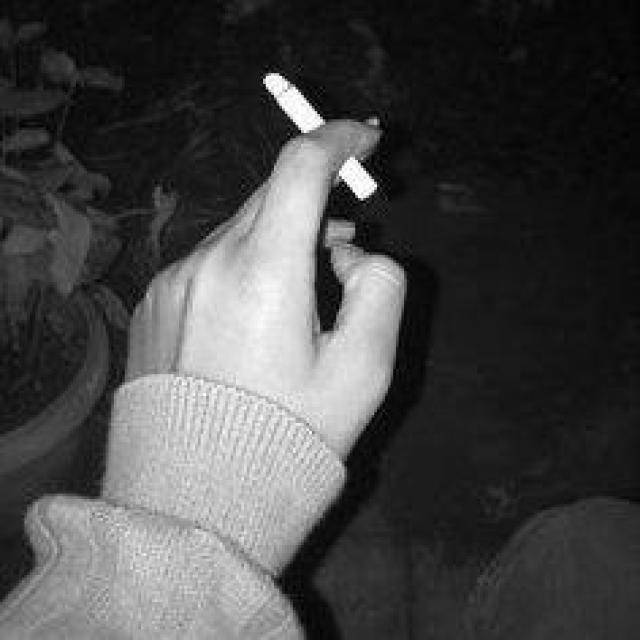rokok: (257, 68, 388, 204)
